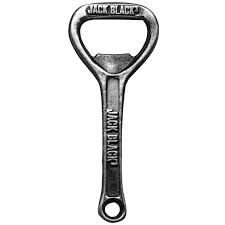bottleopener: (67, 2, 160, 223)
